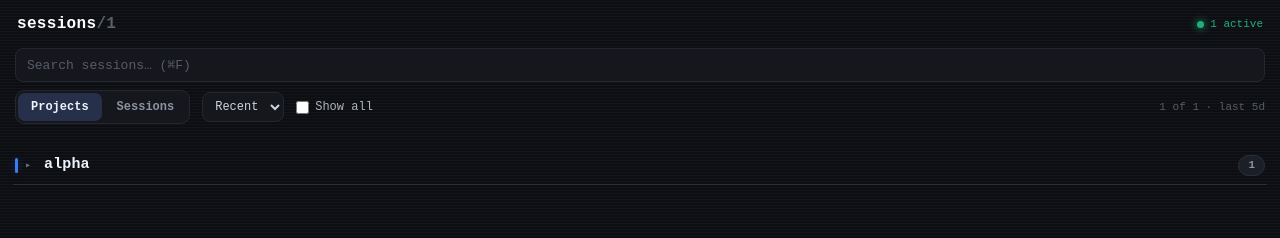
it: DashboardPage › operators think in projects, so the board should open already ordered by project, not one flat recency stream › splits into Projects and Sessions tabs — the Sessions tab is a flat list with no project headers (#3)
The width and height of the screenshot is (1280, 238).
expect the text "alpha" is shown: met, box [44,154,90,176]
Click the tab "Sessions". click: (145, 107)
box: [104,93,187,121]
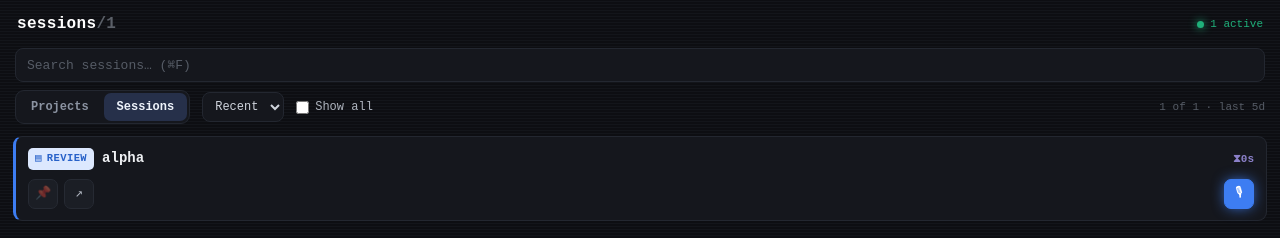
expect the button "▤ REVIEW alpha ⧗0s 📌 ↗ 🎙" is shown: met, box [13,136,1267,221]
